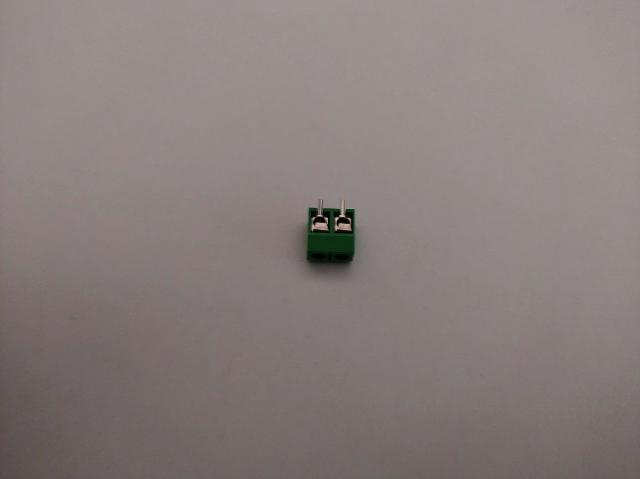terminal_block: (306, 199, 356, 263)
